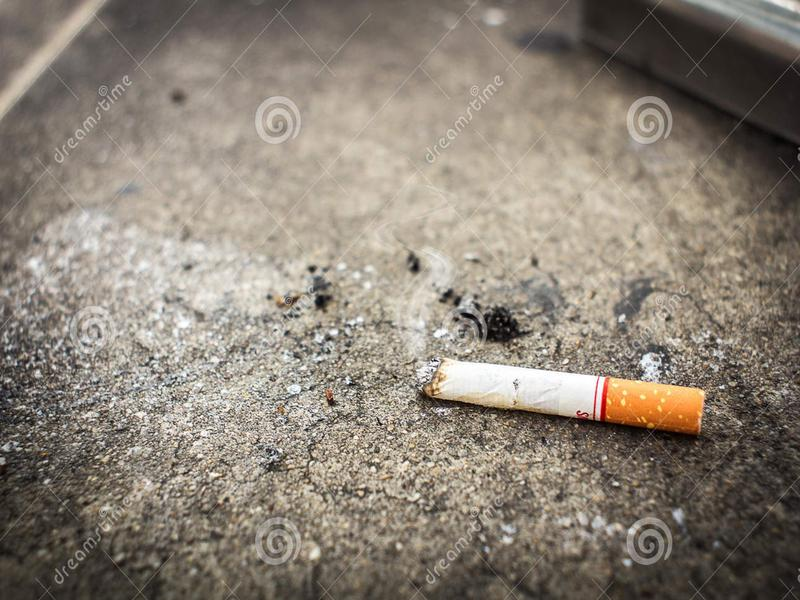burned_cigarette: (408, 354, 715, 442)
